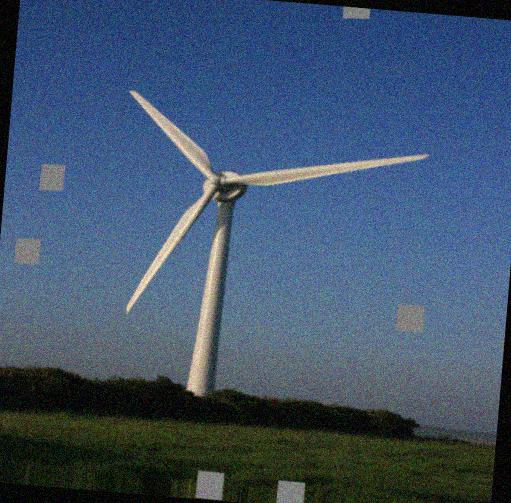wind turbine: (122, 87, 432, 381)
